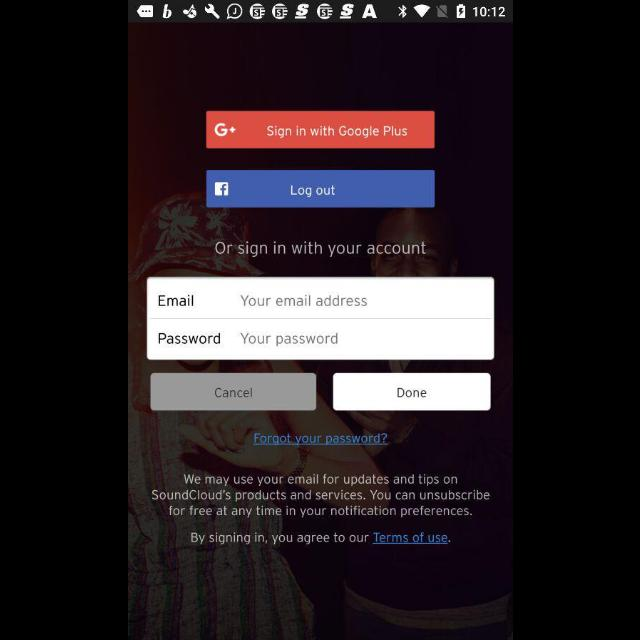backgroundimage: (128, 24, 512, 640)
input: (146, 318, 494, 360), (146, 277, 494, 319)
text: (151, 474, 489, 518), (214, 241, 426, 257), (190, 532, 450, 544), (253, 432, 389, 446), (240, 295, 366, 307), (240, 333, 338, 347), (158, 333, 220, 345), (159, 295, 193, 307)
textbutton: (206, 170, 434, 208), (206, 111, 434, 149), (150, 374, 316, 411), (332, 374, 490, 411)
uppertaskbar: (128, 1, 512, 23)
